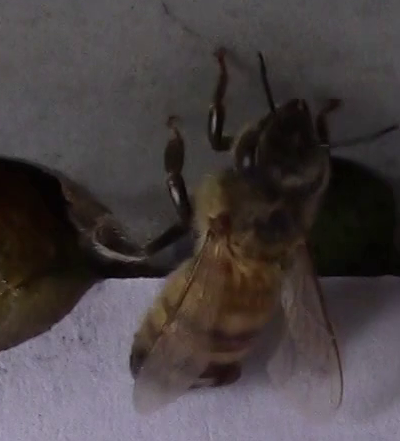Varroa destructor: (212, 360, 245, 391)
